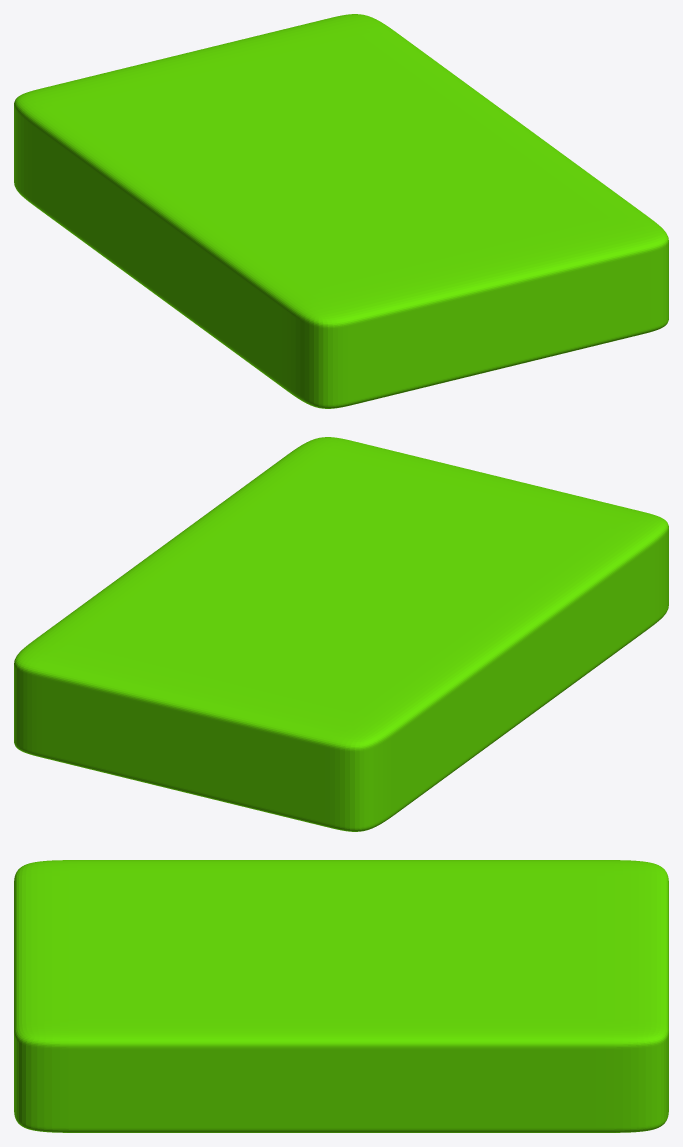
The model's file is jalan lebar.fbx.
The picture shows the model from 3 angles, top to bottom: view 1: azimuth 30°, elevation 25°; view 2: azimuth 150°, elevation 25°; view 3: azimuth 270°, elevation 25°; orthographic projection. The views are drawn at different scales.
Parts seen in each view (by area): view 1: Cube.002; view 2: Cube.002; view 3: Cube.002.
Part boxes in pixels (x1,y1,x2,y2): Cube.002: (14, 14, 668, 408); Cube.002: (14, 437, 668, 831); Cube.002: (14, 860, 668, 1132).
Size of the model in its own units: 1596 by 400 by 2403.
